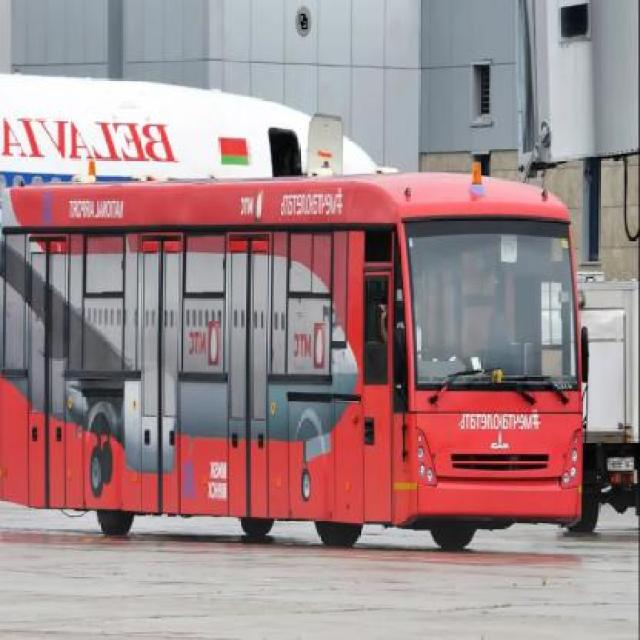bus: (2, 160, 591, 552)
